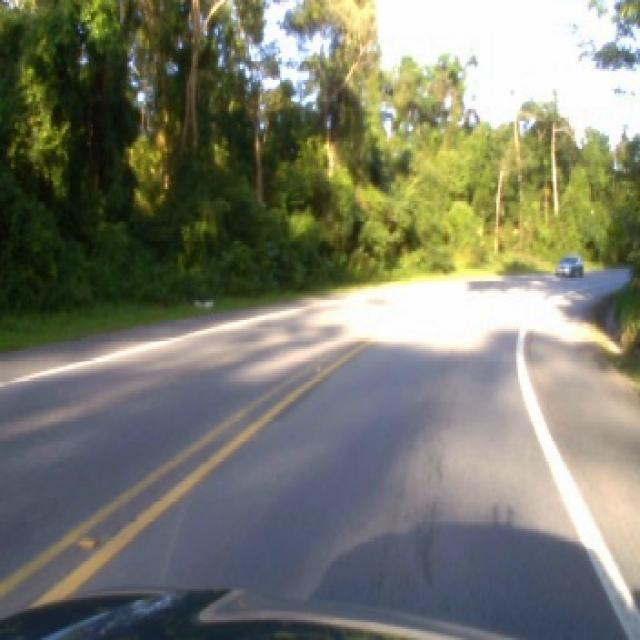Poth-hole: (74, 533, 100, 549)
